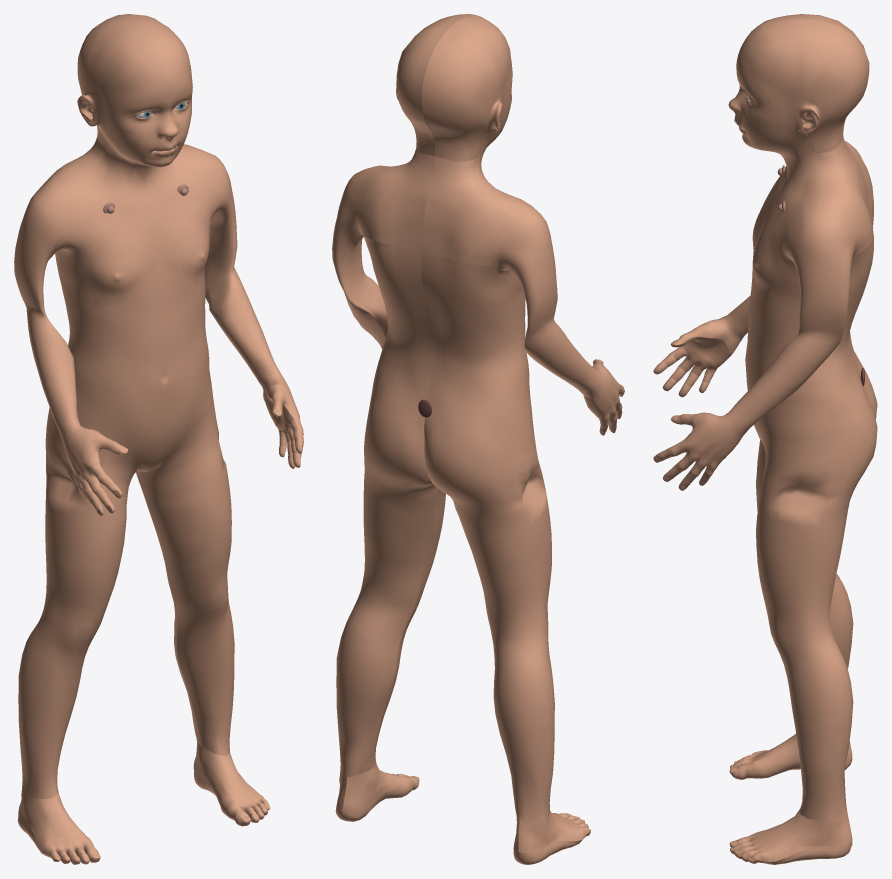
The model's file is body-kleinkind-divers-real-v3.glb.
3 renders of one model, left to right at view 1: azimuth 30°, elevation 25°; view 2: azimuth 150°, elevation 25°; view 3: azimuth 270°, elevation 25°, orthographic.
Parts seen in each view (by area): view 1: real-human-body; view 2: real-human-body; view 3: real-human-body.
Boxes of the visible parts, x1=… form: real-human-body: x1=14, y1=14, x2=303, y2=864; real-human-body: x1=332, y1=14, x2=624, y2=864; real-human-body: x1=653, y1=14, x2=877, y2=864.
Size of the model in its own units: 0.2893 by 1 by 0.2551.
Materials: 7 (1 with a texture image).
